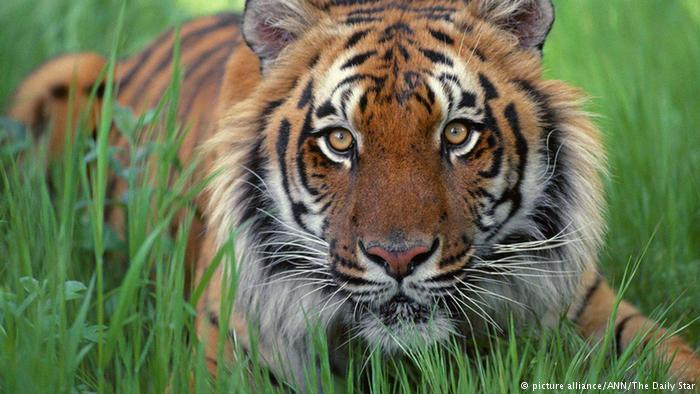Tiger: (22, 3, 687, 394)
